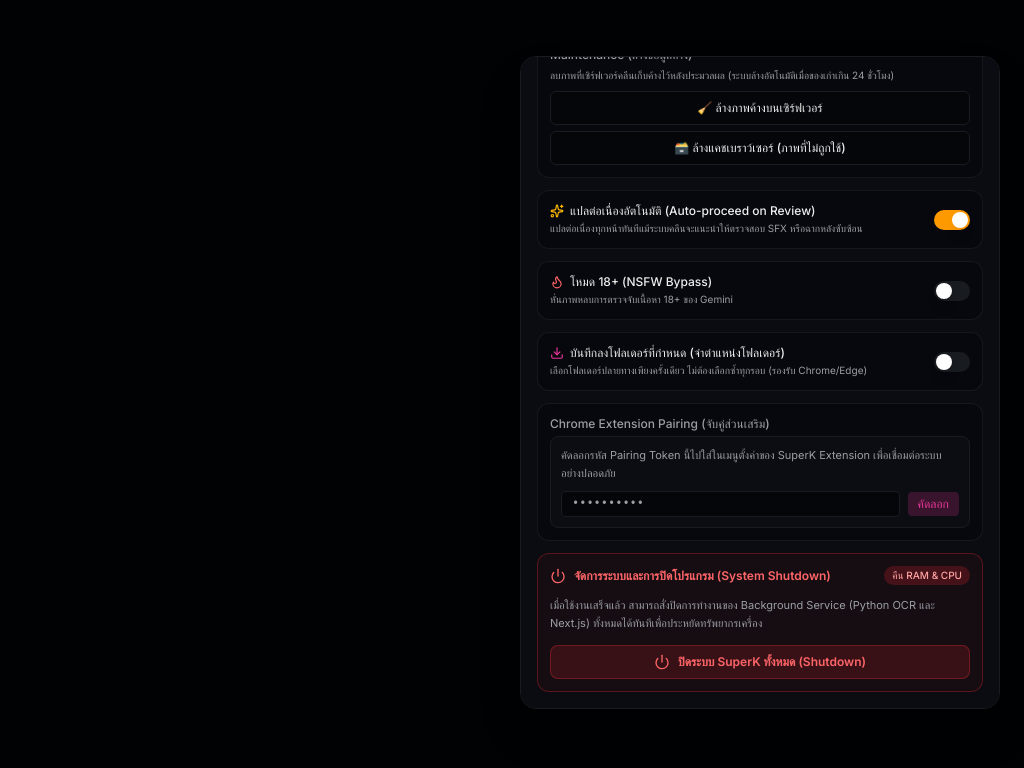
it: SettingsModal System Shutdown Feature › shows confirmation prompt when clicking shutdown button
(page scrolled)
Click the button "ปิดระบบ SuperK ทั้งหมด (Shutdown)" at (760, 662), box 550,645 -> 970,679
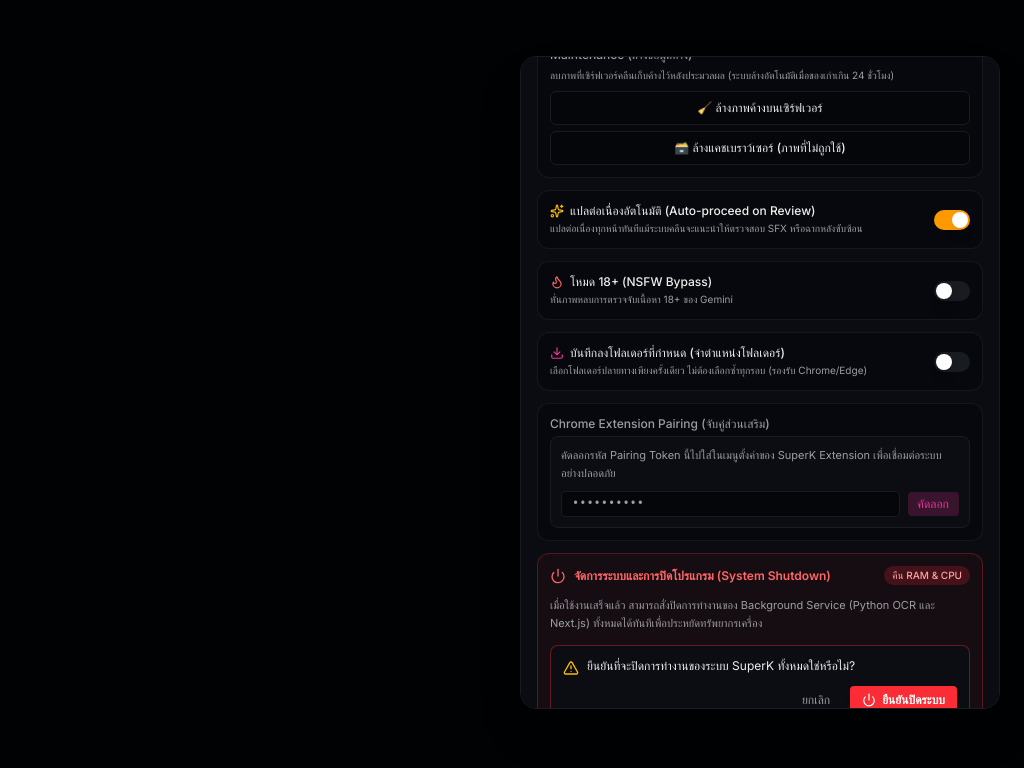
expect the text "ยืนยันที่จะปิดการทำงานของระบบ SuperK ทั้งหมดใช่หรือไม่?" is shown: met, box 587,658 -> 855,674
expect the button "ยืนยันปิดระบบ" is shown: met, box 850,686 -> 957,709
expect the button "ยกเลิก" is shown: met, box 790,686 -> 842,709
